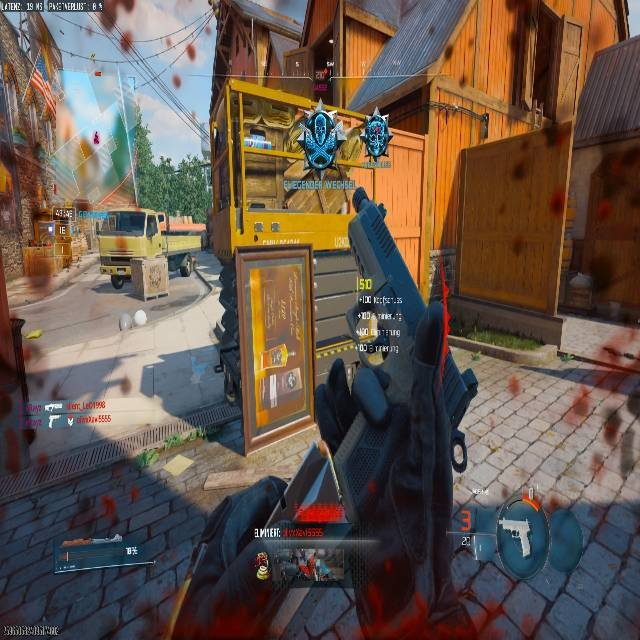player: (291, 103, 344, 183), (362, 110, 392, 164)
